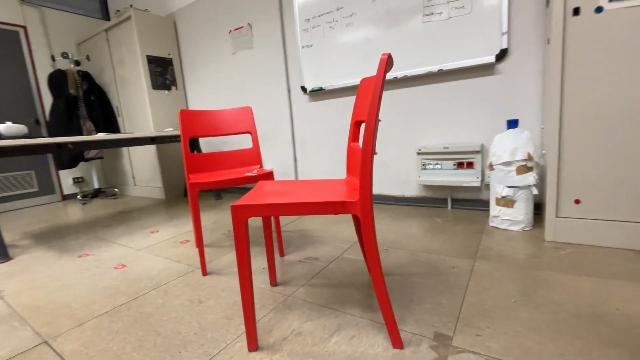Chair: (224, 46, 412, 360), (174, 102, 290, 280)
